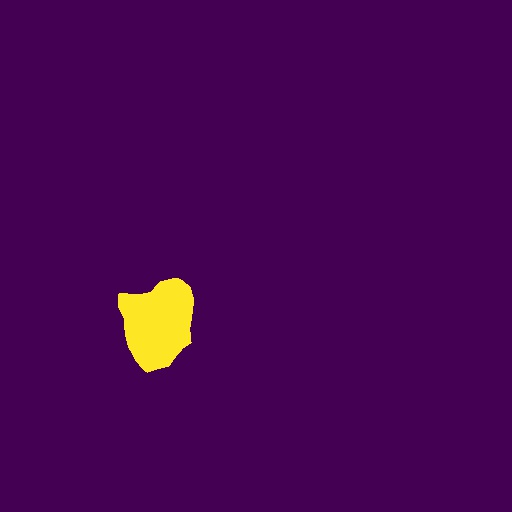Menigiomia_tumour: (118, 278, 194, 373)
